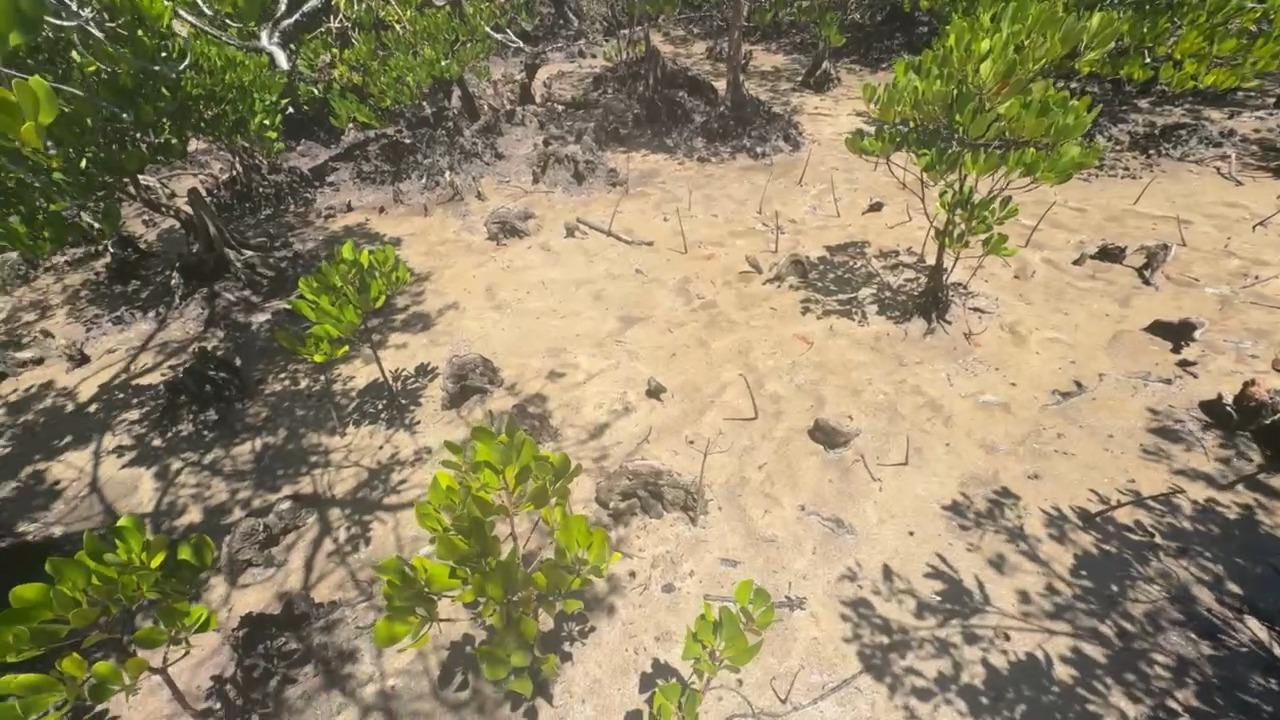Tree: (650, 579, 776, 720), (1083, 489, 1186, 521), (963, 232, 1018, 289), (692, 436, 710, 527), (1025, 199, 1056, 247), (738, 371, 759, 419), (919, 213, 939, 263), (1133, 175, 1158, 204), (783, 668, 802, 705), (607, 194, 623, 237), (675, 206, 688, 253), (759, 172, 773, 213), (1252, 209, 1280, 229), (799, 149, 812, 183), (830, 175, 840, 218), (1176, 215, 1186, 246), (902, 155, 909, 190), (774, 209, 778, 251), (905, 435, 910, 465), (626, 152, 629, 195), (906, 203, 912, 221), (688, 188, 691, 211)
